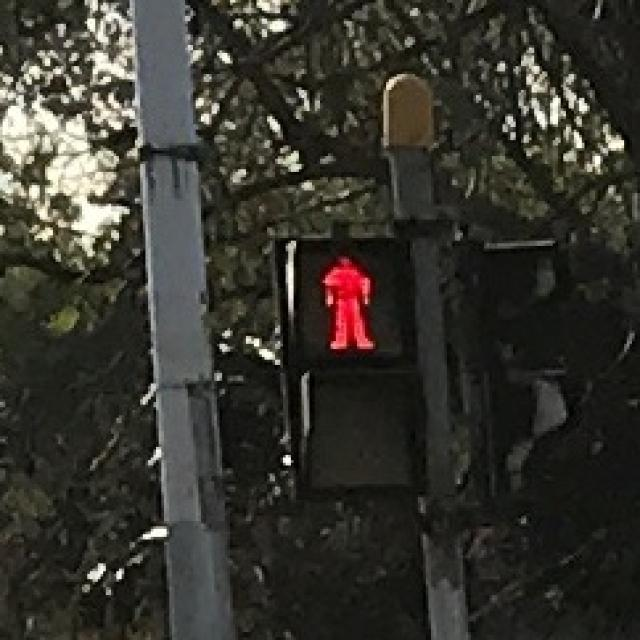red-crossing: (300, 238, 393, 360)
